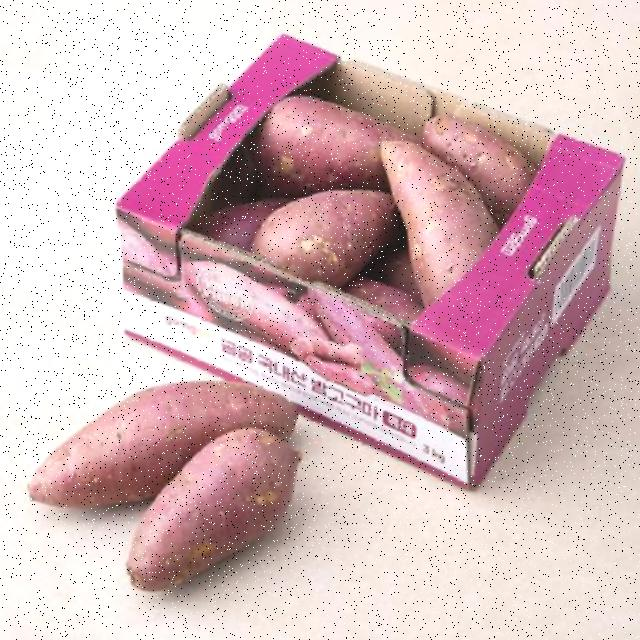Sweet Potato: (83, 10, 640, 488), (36, 341, 322, 510), (90, 418, 341, 607)
